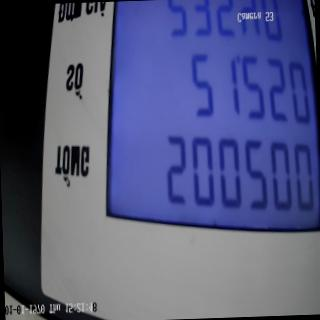screen: (93, 0, 320, 243)
